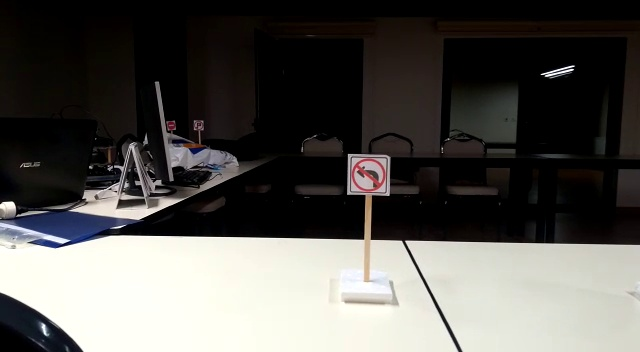sola_donulmez: (349, 157, 387, 193)
